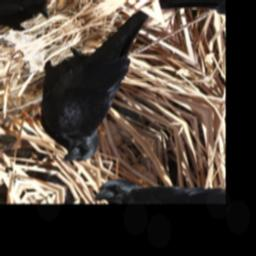Crow: (0, 7, 211, 170)
